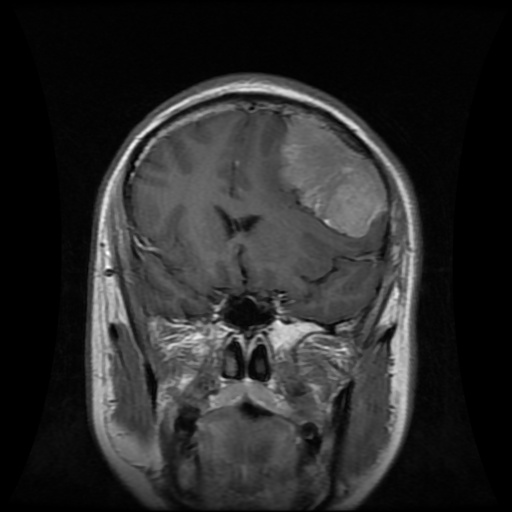meningioma: (277, 113, 388, 236)
